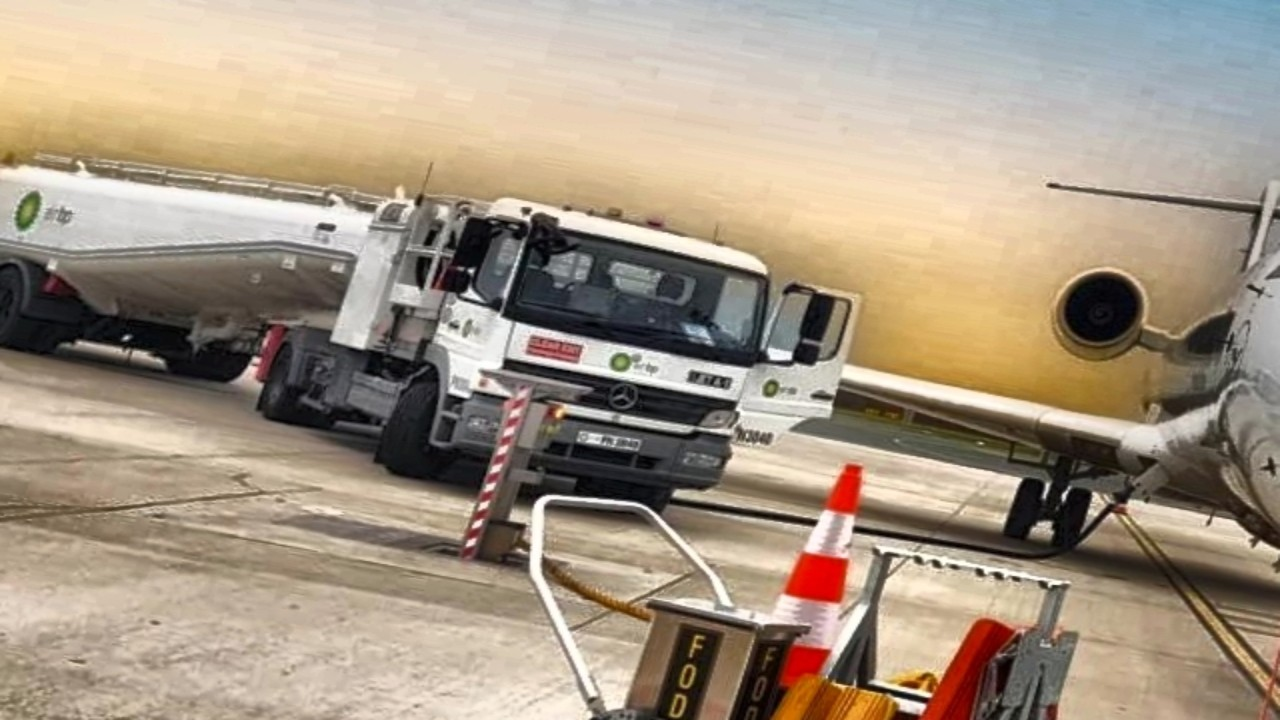chock: (857, 605, 1035, 720), (722, 661, 847, 720), (776, 675, 900, 720)
wheel: (373, 370, 491, 486), (251, 330, 337, 425), (0, 261, 78, 359), (151, 319, 263, 387), (570, 467, 677, 524)
